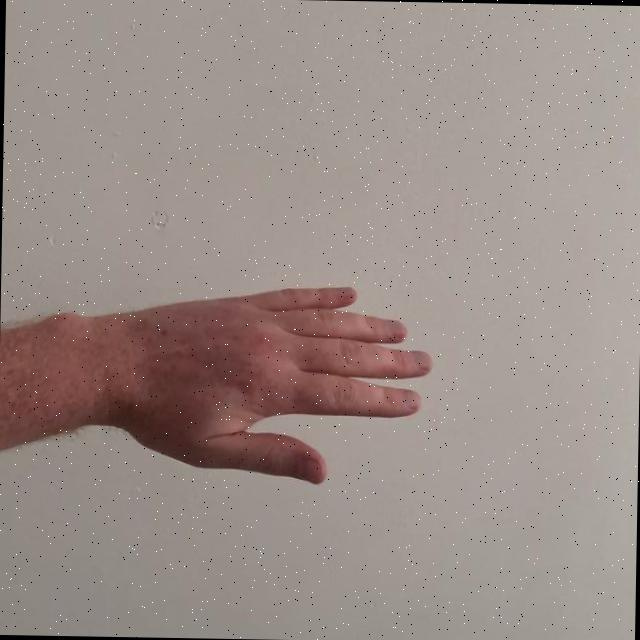papper: (50, 272, 438, 489)
